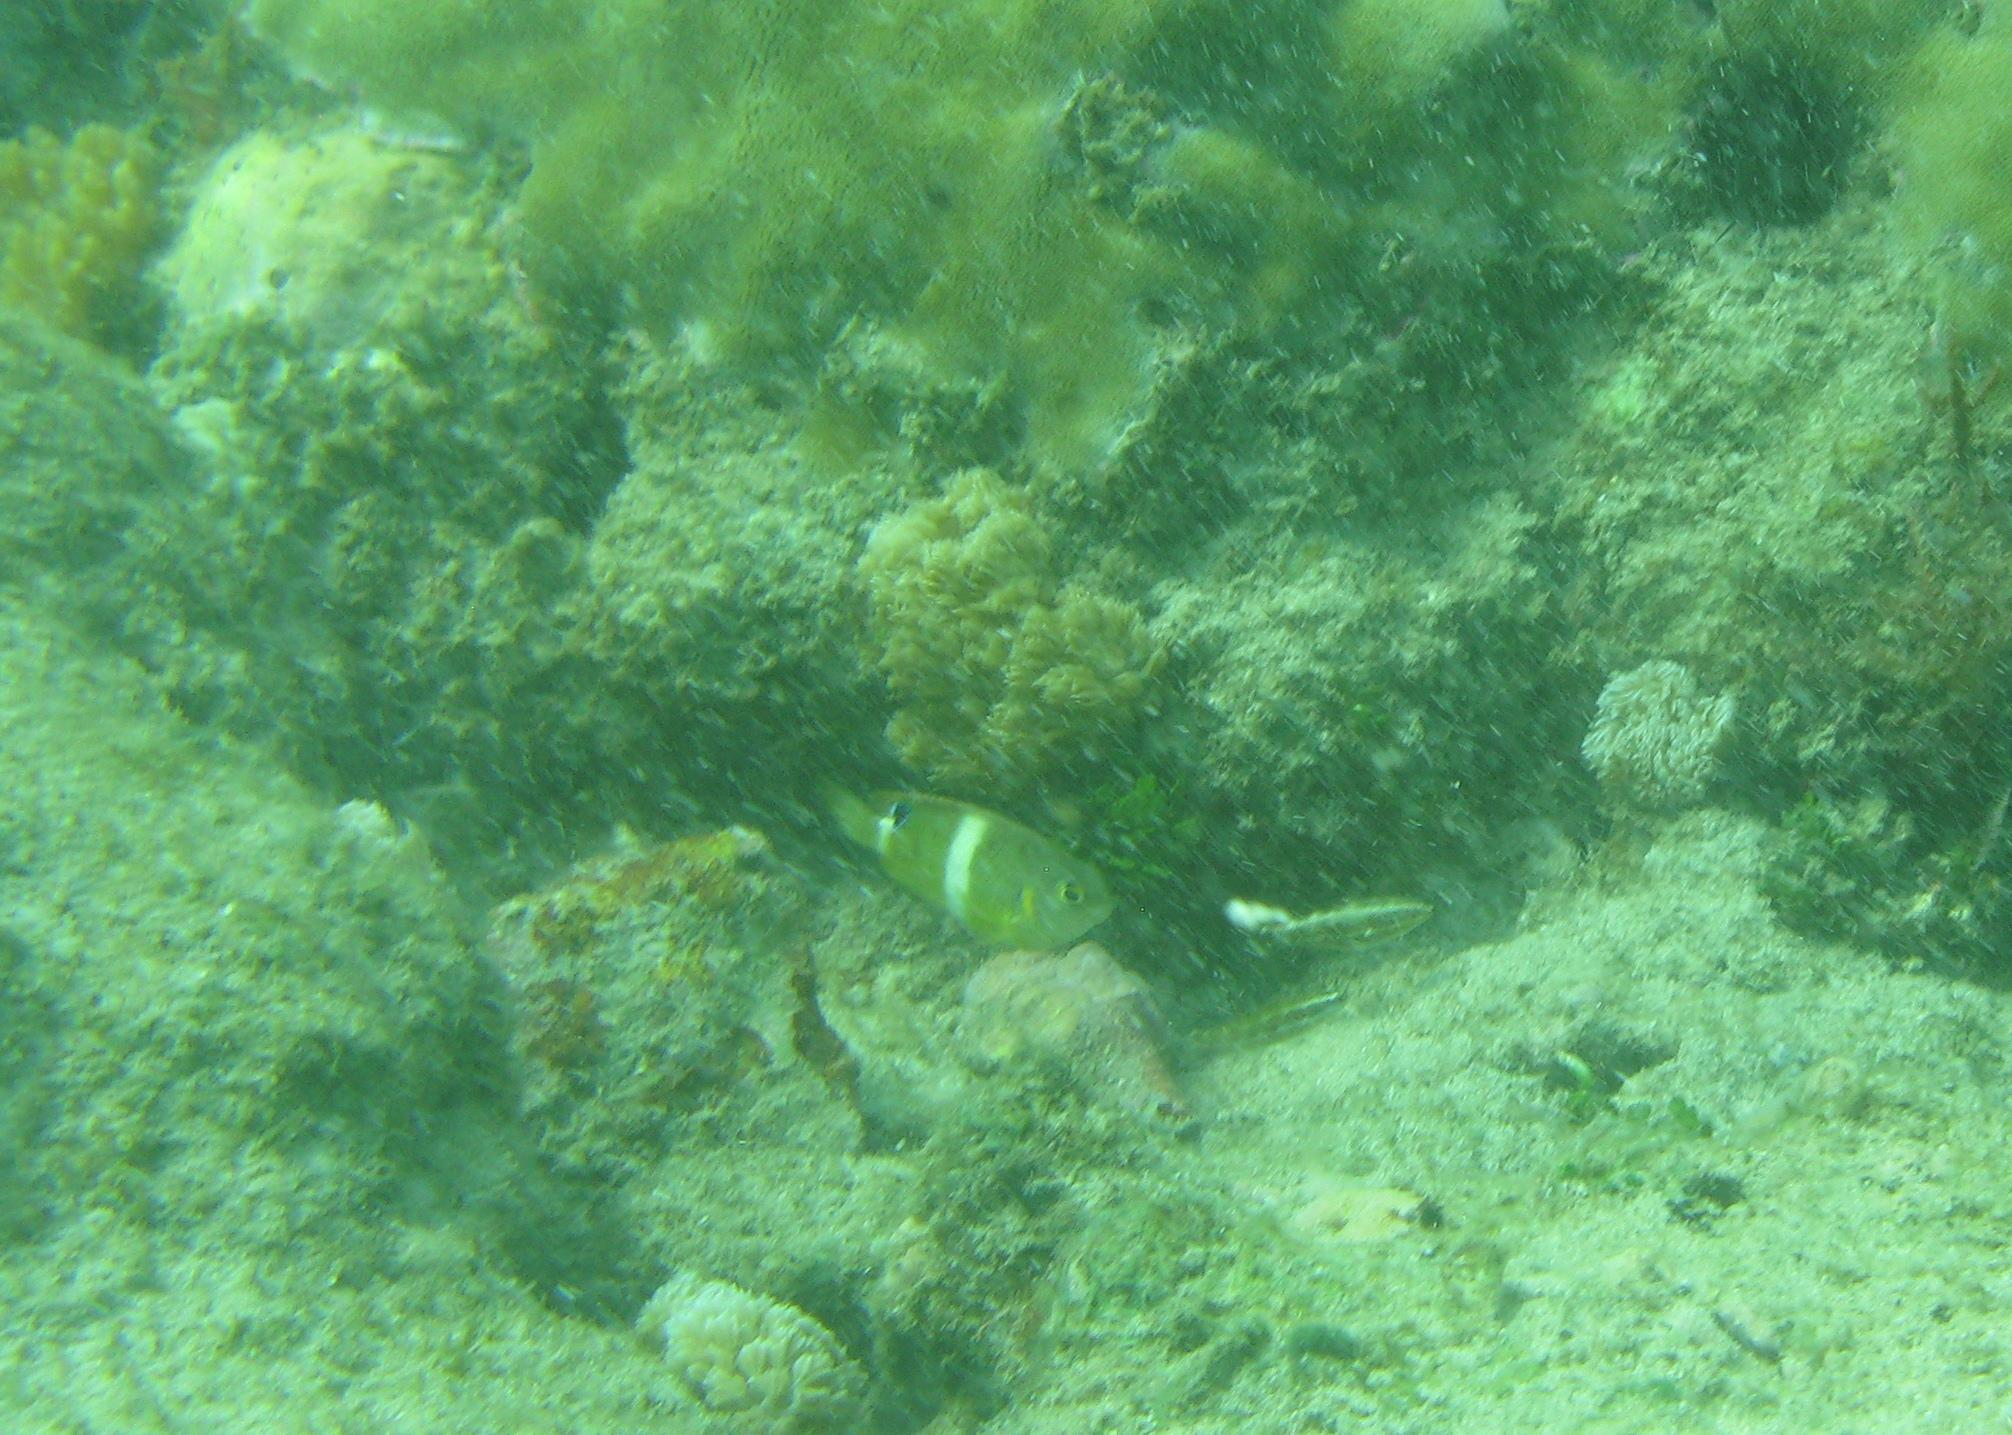Fish: (815, 742, 1122, 975)
